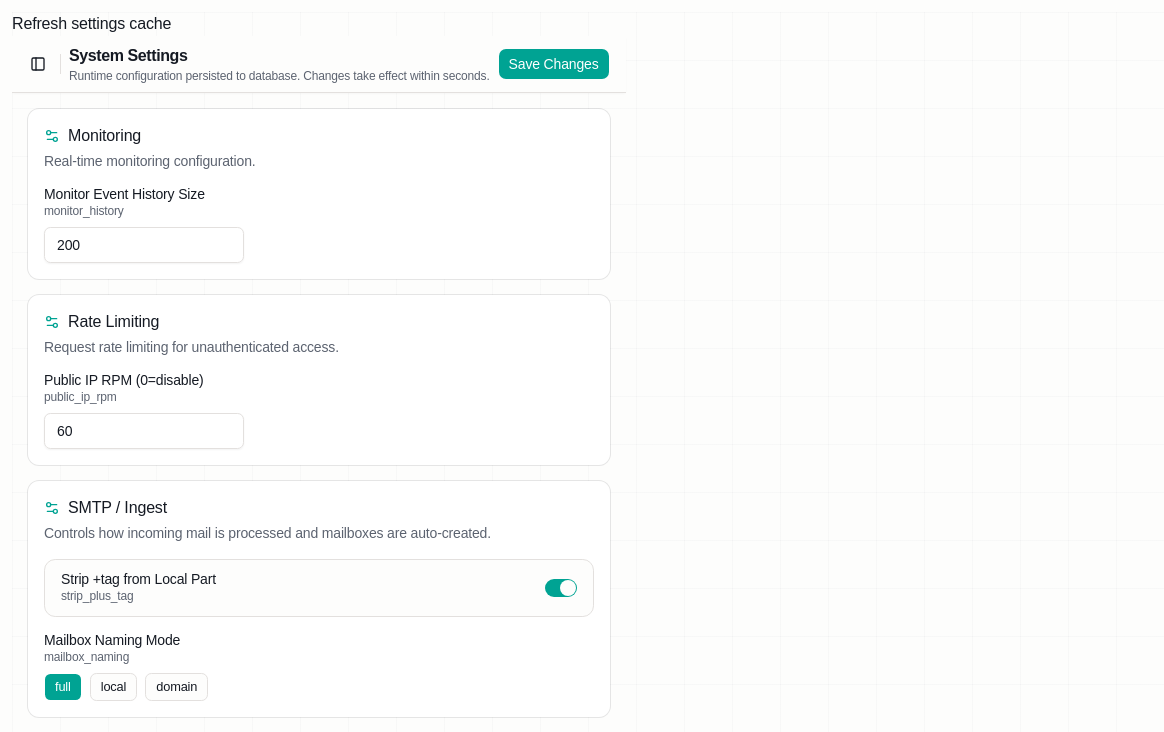
Scenario: retains acknowledged values and newer edits when the follow-up read fails
This screenshot has width=1164, height=732.
expect the number field showing "200" is shown: met, box [44,227,244,263]
Replace the text in the number field labelled "Public IP RPM (0=disable)" with "70" at point(144, 431), box [44,413,244,449]
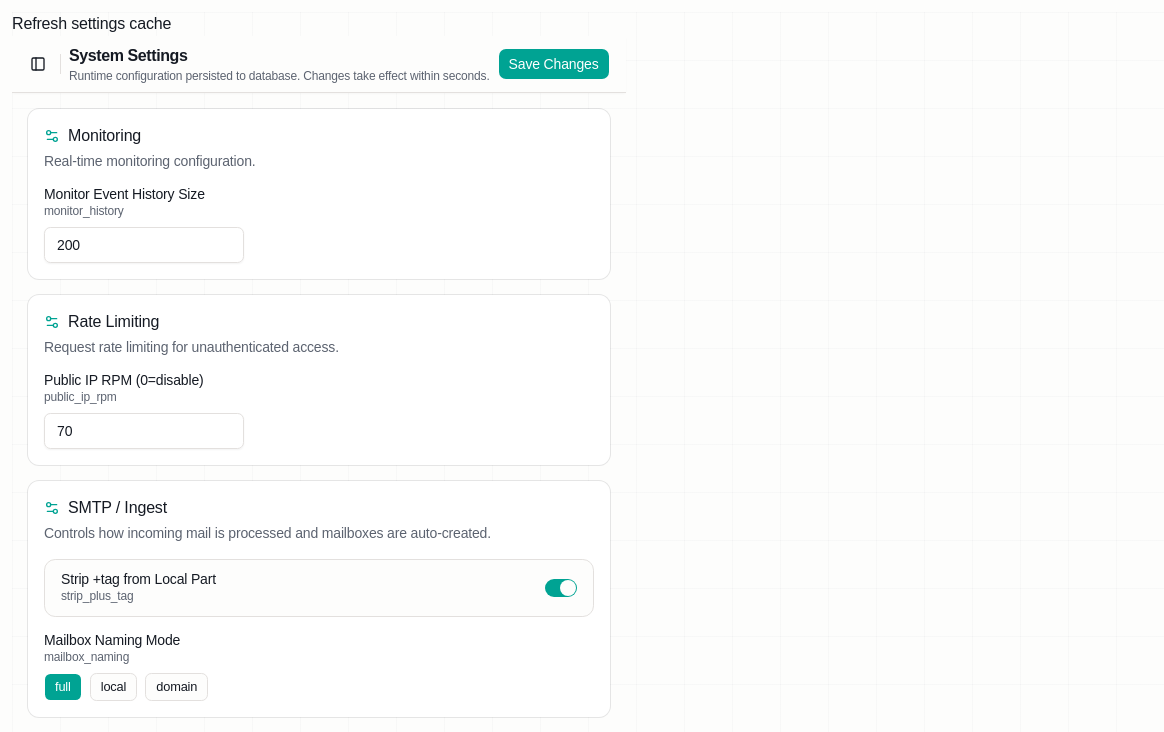
Click the button "Save Changes" at point(554, 64), box [498,48,610,80]
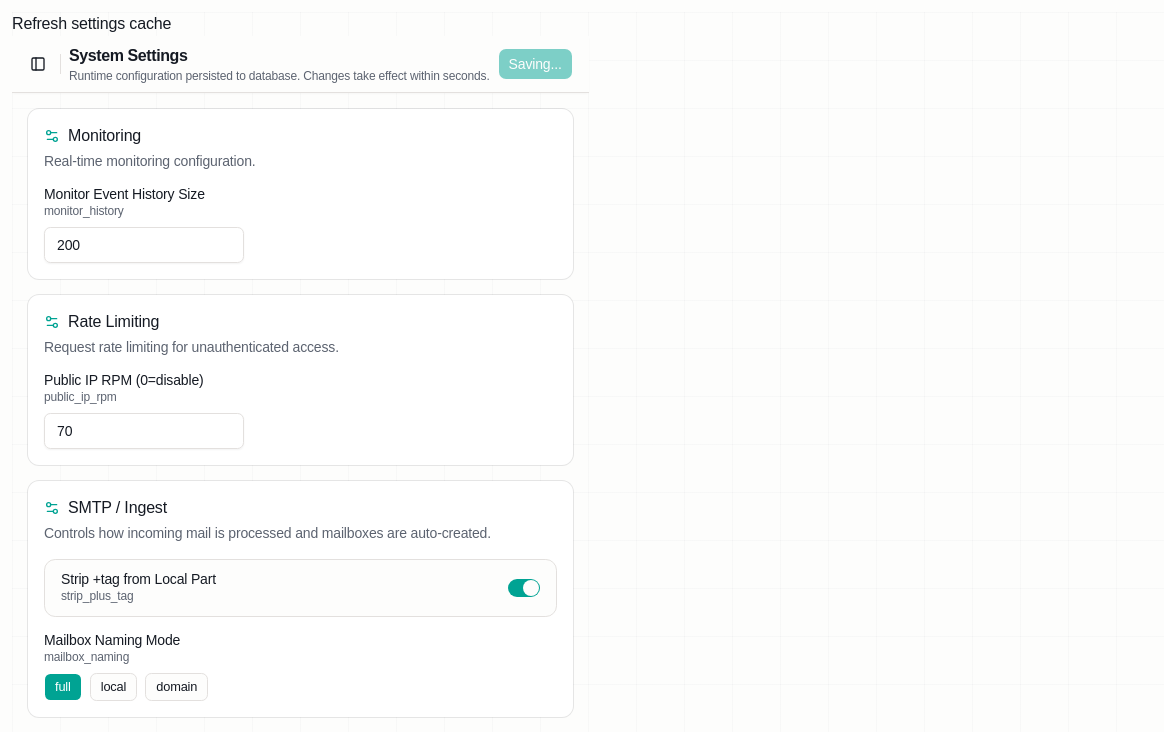
Replace the text in the number field labelled "Public IP RPM (0=disable)" with "80" at point(144, 431), box [44,413,244,449]
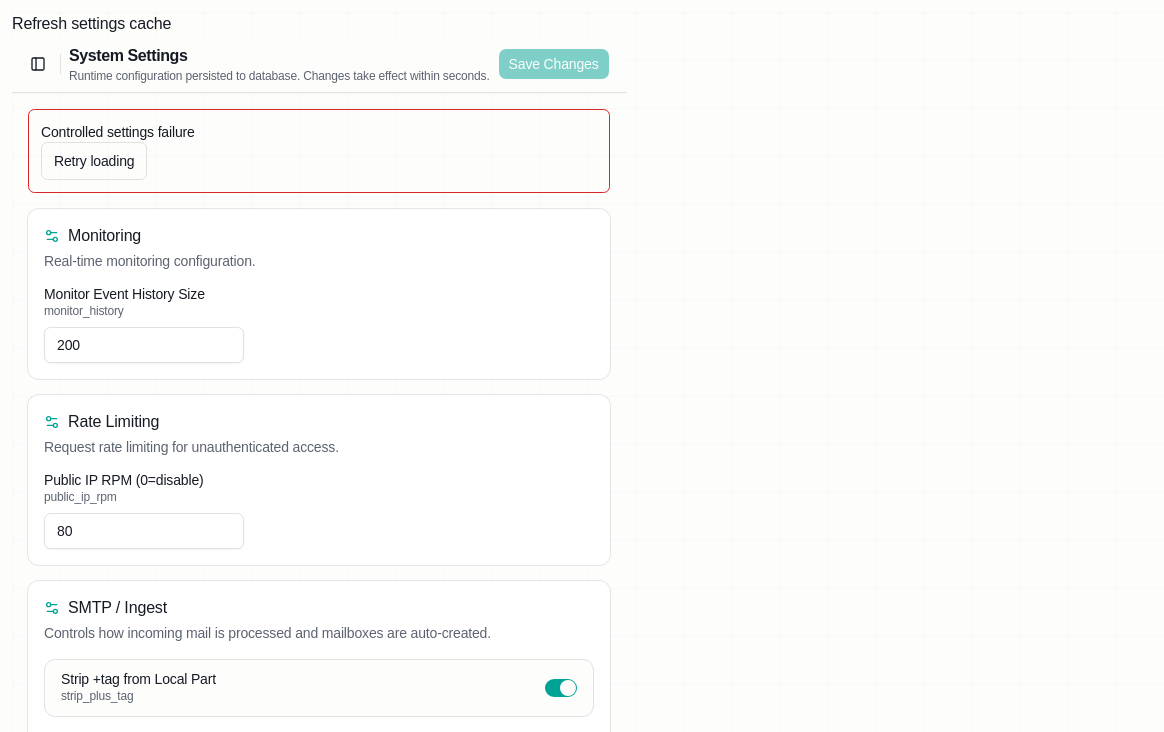
expect the button "Save Changes" is disabled: met, box [498,48,610,80]
expect the message "Controlled settings failure Retry loading" is shown: met, box [28,109,610,193]
